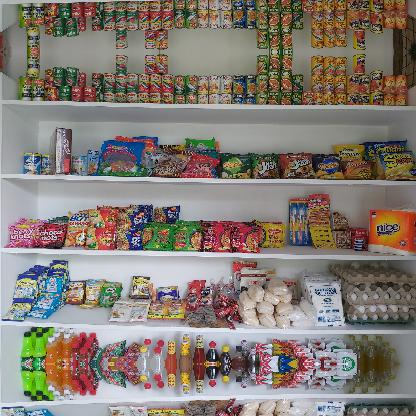Koko-Krunch: (49, 127, 71, 175)
